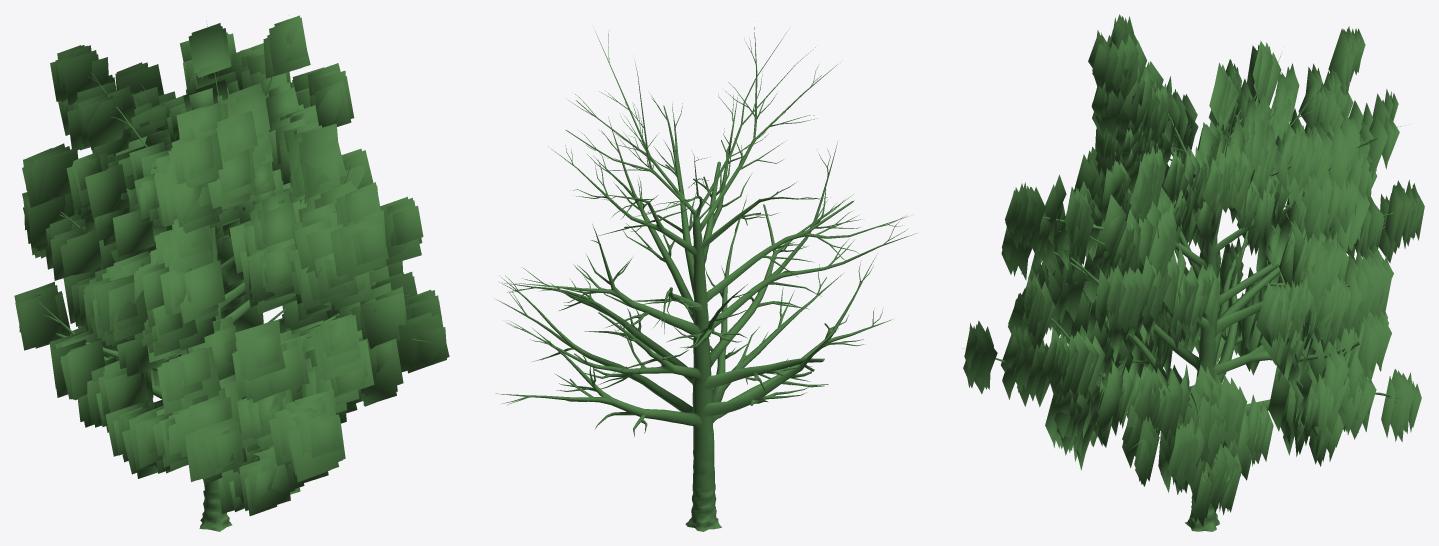
File: broadleaf.glb
3 views of the same model, side by side, from view 1: azimuth 30°, elevation 25°; view 2: azimuth 150°, elevation 25°; view 3: azimuth 270°, elevation 25° (orthographic). The views are drawn at different scales.
Visible parts, largest first — view 1: AlanTree; view 2: AlanTree; view 3: AlanTree.
Part boxes in pixels (box(x1,y1,x2,y2)): AlanTree: box(14, 15, 449, 531); AlanTree: box(495, 27, 916, 531); AlanTree: box(963, 14, 1424, 531).
Bounding box in the file's own units: 8.15 × 9.5 × 8.1.
